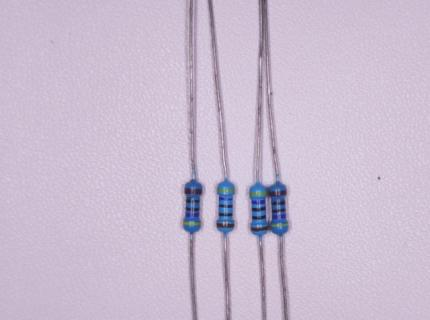Black band: (185, 206, 200, 211), (251, 215, 266, 220), (186, 198, 200, 203), (252, 207, 266, 212), (272, 209, 287, 213), (271, 201, 286, 205), (219, 204, 233, 208), (218, 213, 233, 216)
Brown band: (184, 188, 203, 196), (216, 222, 235, 228), (250, 226, 269, 232), (269, 190, 287, 196)
Violet band: (185, 212, 200, 217), (218, 196, 233, 201), (251, 200, 266, 205), (272, 214, 287, 219)
Yellow band: (249, 191, 268, 196), (183, 221, 201, 226), (217, 187, 235, 192), (270, 223, 289, 227)
